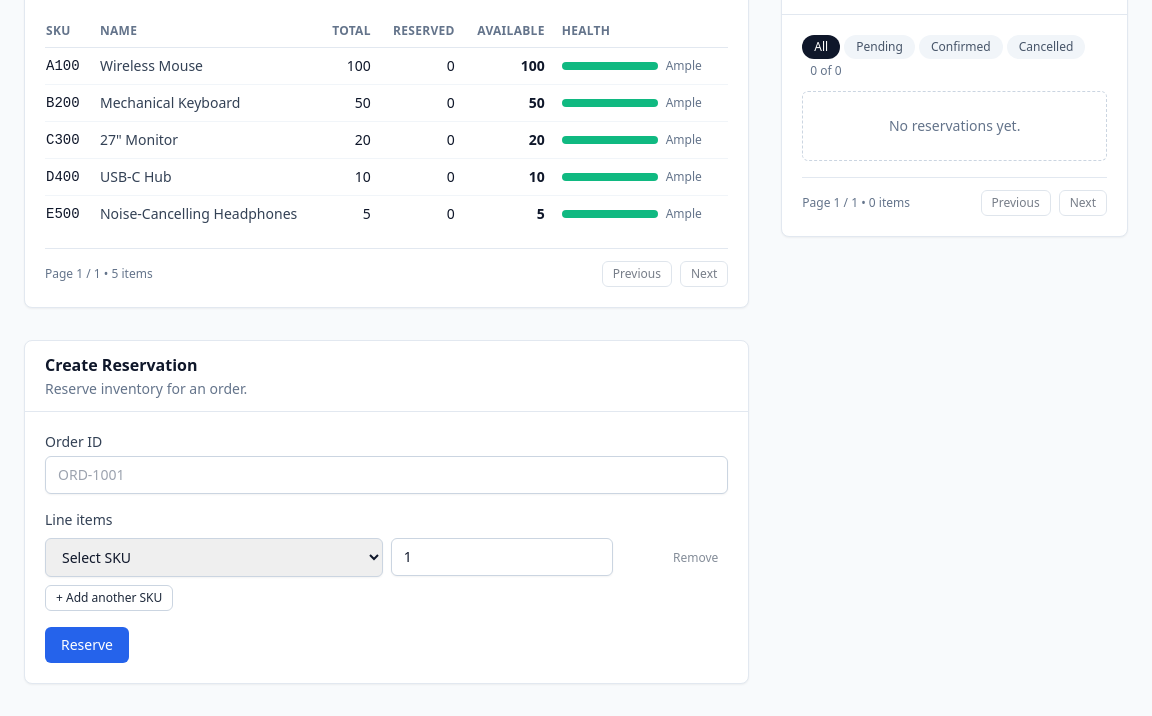
App integration › creates a reservation via the form and shows it in the list after refresh
(page scrolled)
Expected: the text "Wireless Mouse" is shown, 99,48 -> 328,84
Type "ORD-FE-INT-1" into the field labelled "Order ID" at (387, 475), box 45,456 -> 728,494
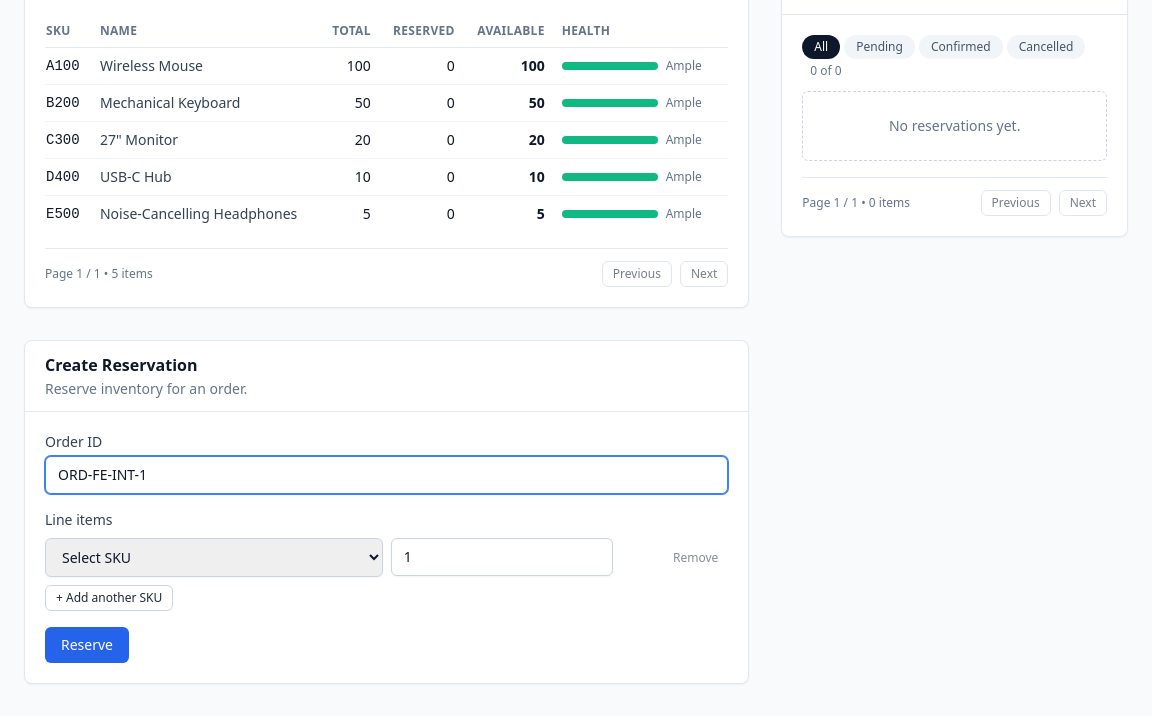
Select "A100 — Wireless Mouse (avail 100)" in the dropdown named "SKU 1" at (214, 558), box 45,538 -> 383,577
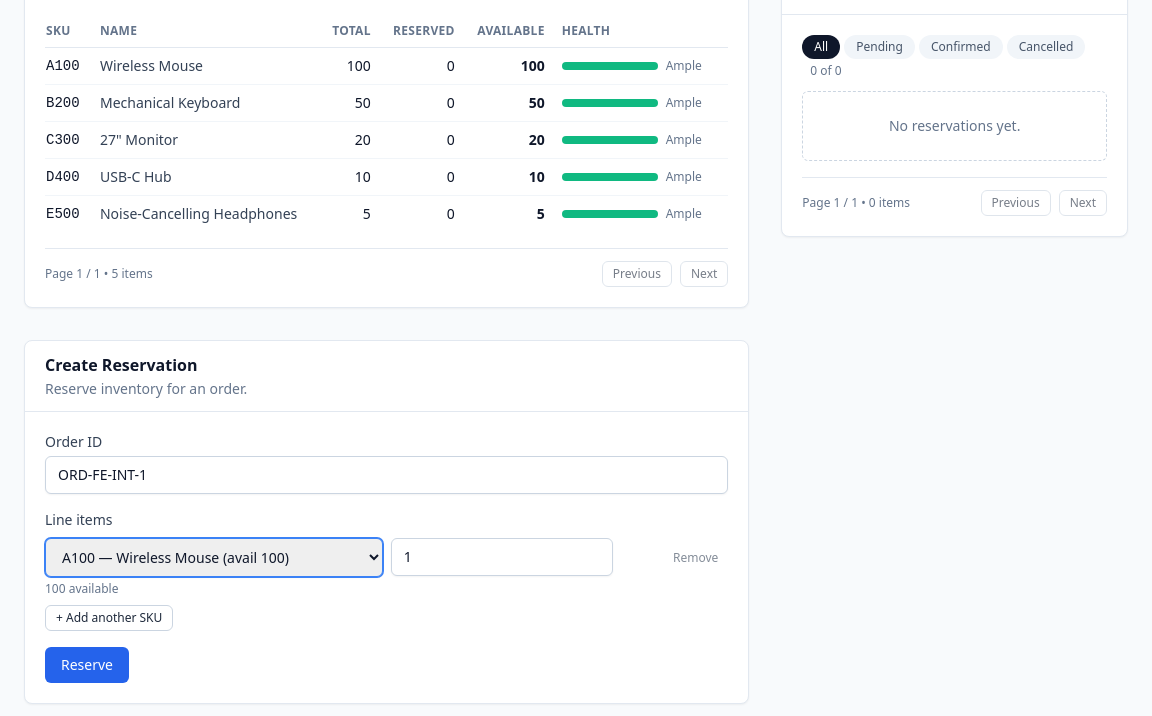
Click the button "Reserve" at (87, 665), box 45,647 -> 129,683
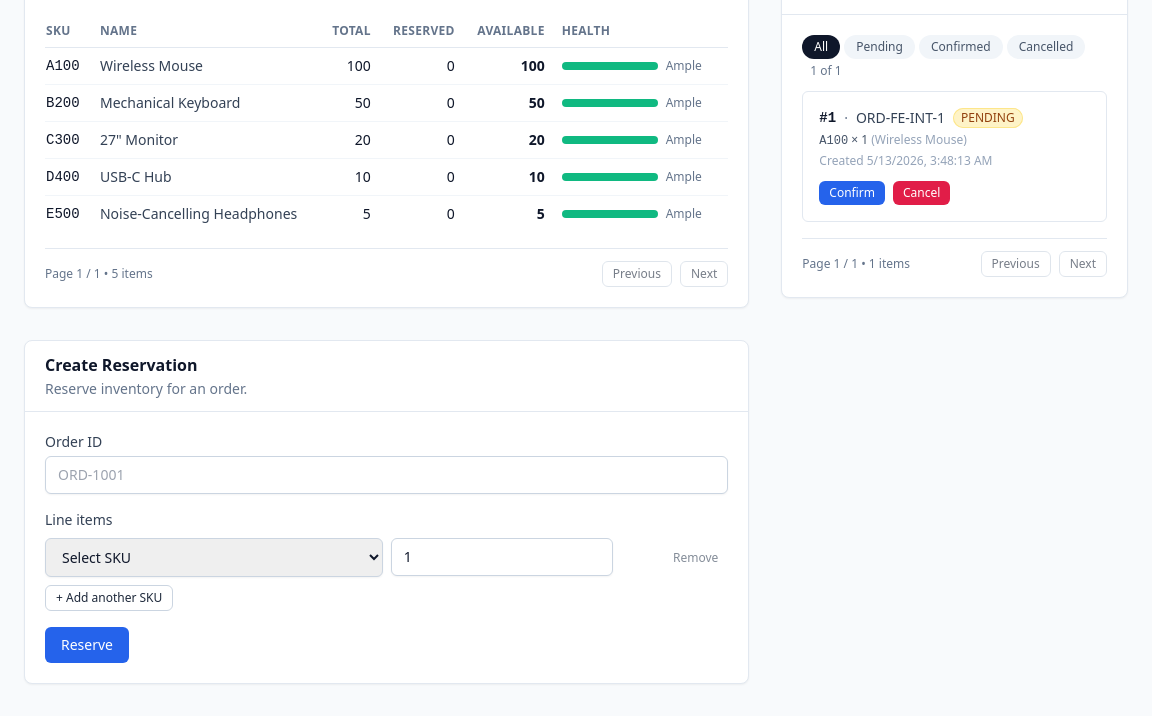
Expected: the text "ORD-FE-INT-1" is shown, 856,108 -> 945,128
Expected: the text "#1" is shown, 819,108 -> 836,128
